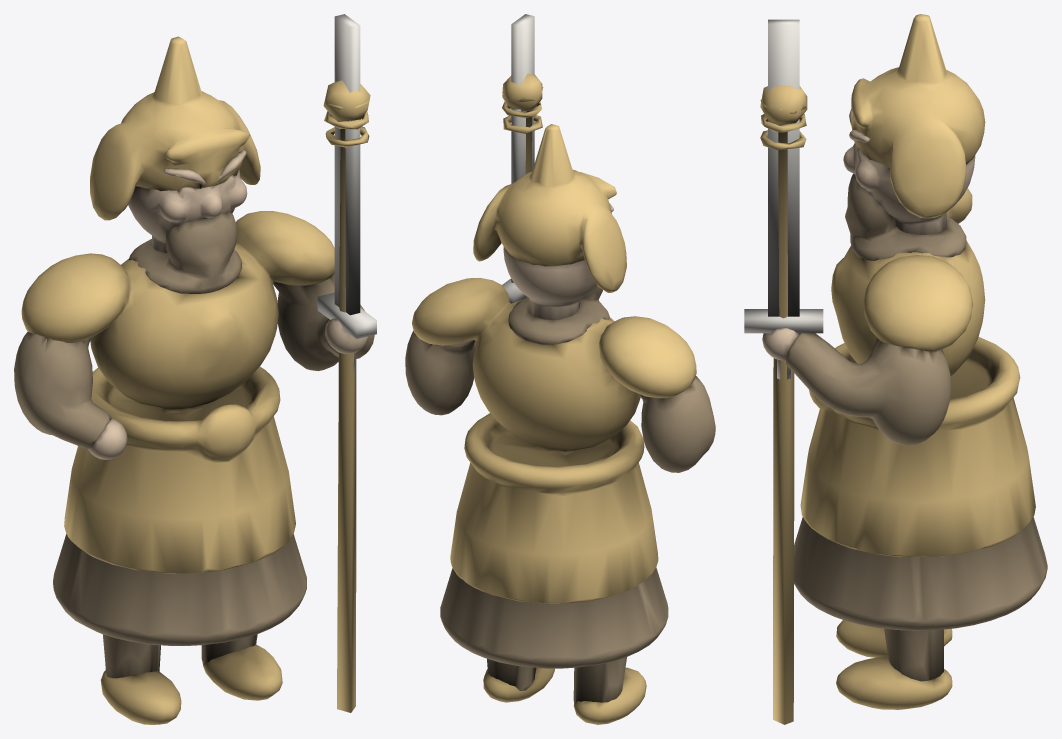
The model's file is guardian.glb.
The picture shows the model from 3 angles, left to right: view 1: azimuth 30°, elevation 25°; view 2: azimuth 150°, elevation 25°; view 3: azimuth 270°, elevation 25°; orthographic projection. The views are drawn at different scales.
Parts seen in each view (by area): view 1: armour, robe, staff, sword, face; view 2: armour, robe, face, sword, staff; view 3: armour, robe, staff, sword, face.
Part boxes in pixels (left/top/right/bottom): armour: left=21, top=36, right=334, bottom=724; robe: left=14, top=212, right=374, bottom=678; staff: left=323, top=80, right=370, bottom=712; sword: left=317, top=14, right=376, bottom=371; face: left=88, top=150, right=368, bottom=459; armour: left=412, top=124, right=696, bottom=724; robe: left=405, top=285, right=715, bottom=703; face: left=503, top=203, right=613, bottom=319; sword: left=502, top=14, right=534, bottom=303; staff: left=502, top=73, right=543, bottom=173; armour: left=800, top=14, right=1035, bottom=709; robe: left=785, top=173, right=1047, bottom=681; staff: left=760, top=85, right=807, bottom=724; sword: left=744, top=19, right=823, bottom=379; face: left=762, top=109, right=975, bottom=360.
Size of the model in its own units: 1.96 by 3.96 by 1.53.
